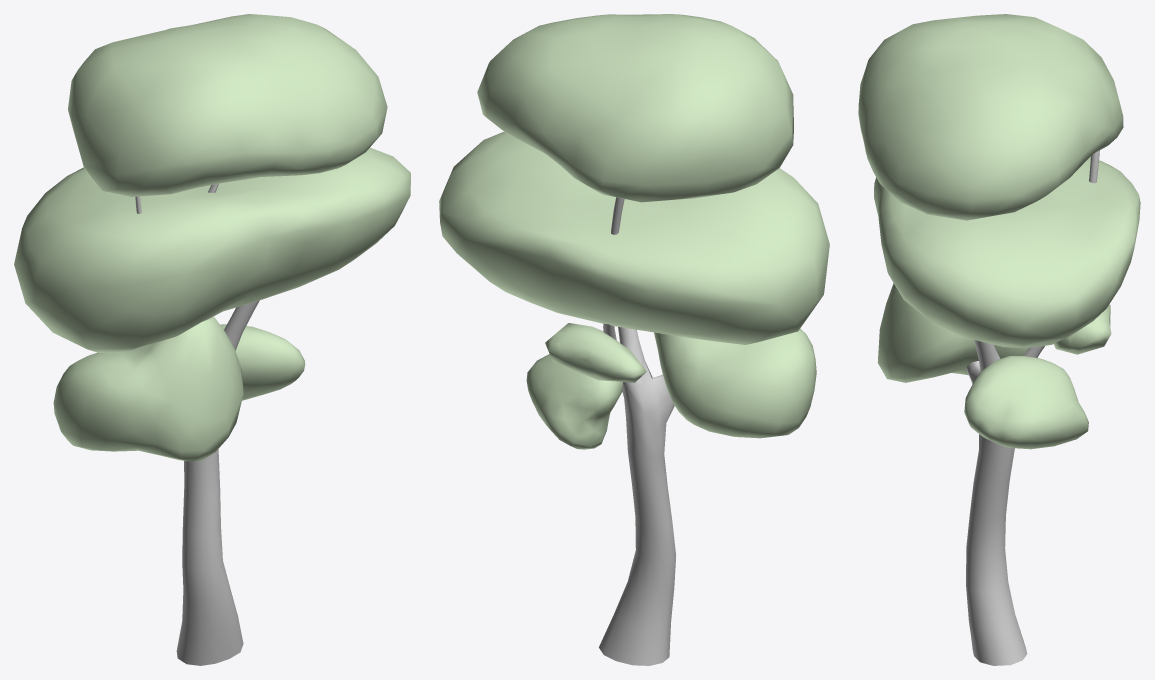
Rendered from stylized-tree-07.fbx.
3 views of the same model, side by side, from view 1: azimuth 30°, elevation 25°; view 2: azimuth 150°, elevation 25°; view 3: azimuth 270°, elevation 25° (orthographic).
Visible parts, largest first — view 1: Tree_07_leaves, Tree_07_bark; view 2: Tree_07_leaves, Tree_07_bark; view 3: Tree_07_leaves, Tree_07_bark.
Boxes of the visible parts, x1,y1,x2,y2 form: Tree_07_leaves: [14, 14, 410, 461]; Tree_07_bark: [135, 183, 259, 665]; Tree_07_leaves: [439, 14, 829, 449]; Tree_07_bark: [599, 197, 676, 665]; Tree_07_leaves: [858, 14, 1140, 449]; Tree_07_bark: [966, 150, 1099, 665].
Bounding box in the file's own units: 297 × 487 × 203.
